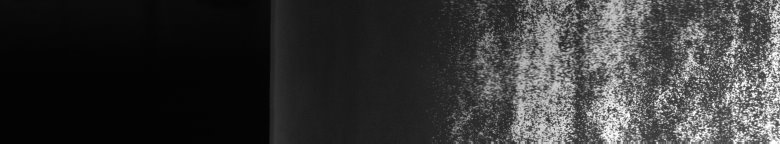kb: (476, 4, 776, 136)
